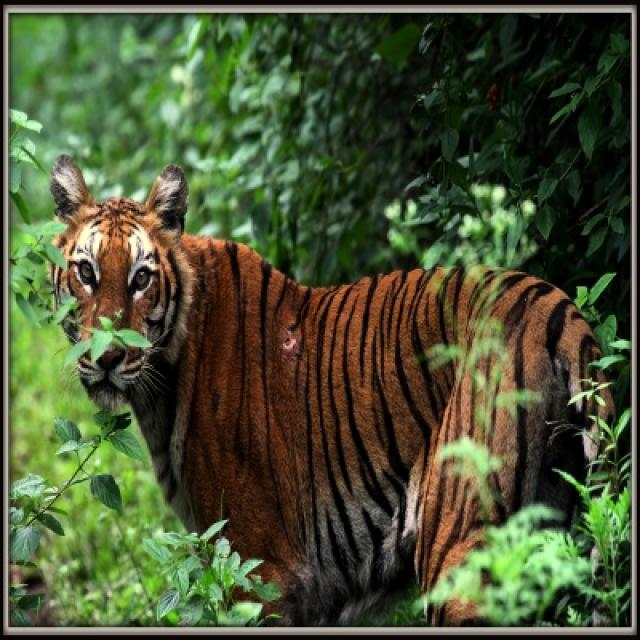Tiger: (46, 147, 613, 590)
